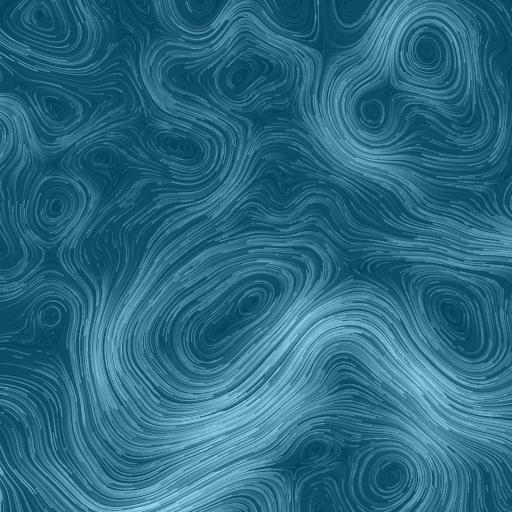eddy: (173, 258, 285, 376), (405, 266, 505, 369), (390, 12, 463, 96), (350, 445, 431, 511), (213, 48, 290, 112), (31, 181, 83, 232), (34, 86, 82, 133), (155, 128, 201, 162), (356, 92, 389, 134), (295, 435, 334, 468), (26, 2, 61, 37), (34, 301, 70, 334), (85, 141, 122, 170)
